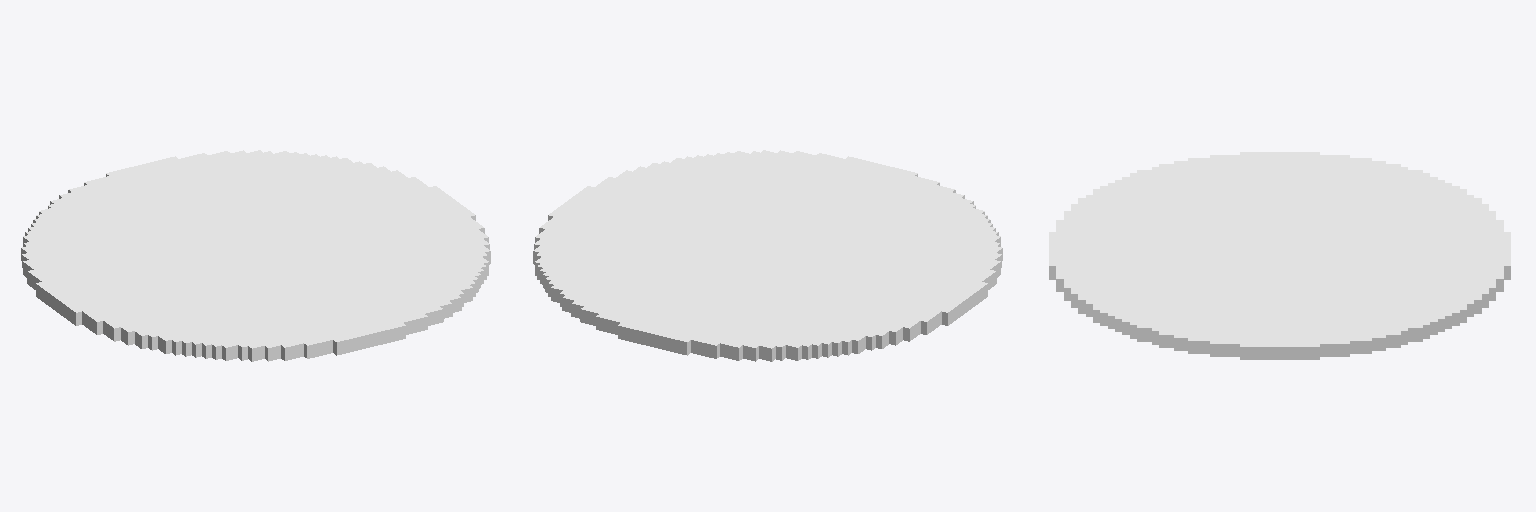
The model's file is daiza.obj.
3 views of the same model, side by side, from view 1: azimuth 30°, elevation 25°; view 2: azimuth 150°, elevation 25°; view 3: azimuth 270°, elevation 25° (orthographic).
Visible parts, largest first — view 1: object 1; view 2: object 1; view 3: object 1.
Boxes of the visible parts, x1,y1,x2,y2 form: object 1: [21, 150, 490, 361]; object 1: [533, 150, 1002, 361]; object 1: [1049, 152, 1510, 359].
Bounding box in the file's own units: 6.3 × 0.2 × 6.3.